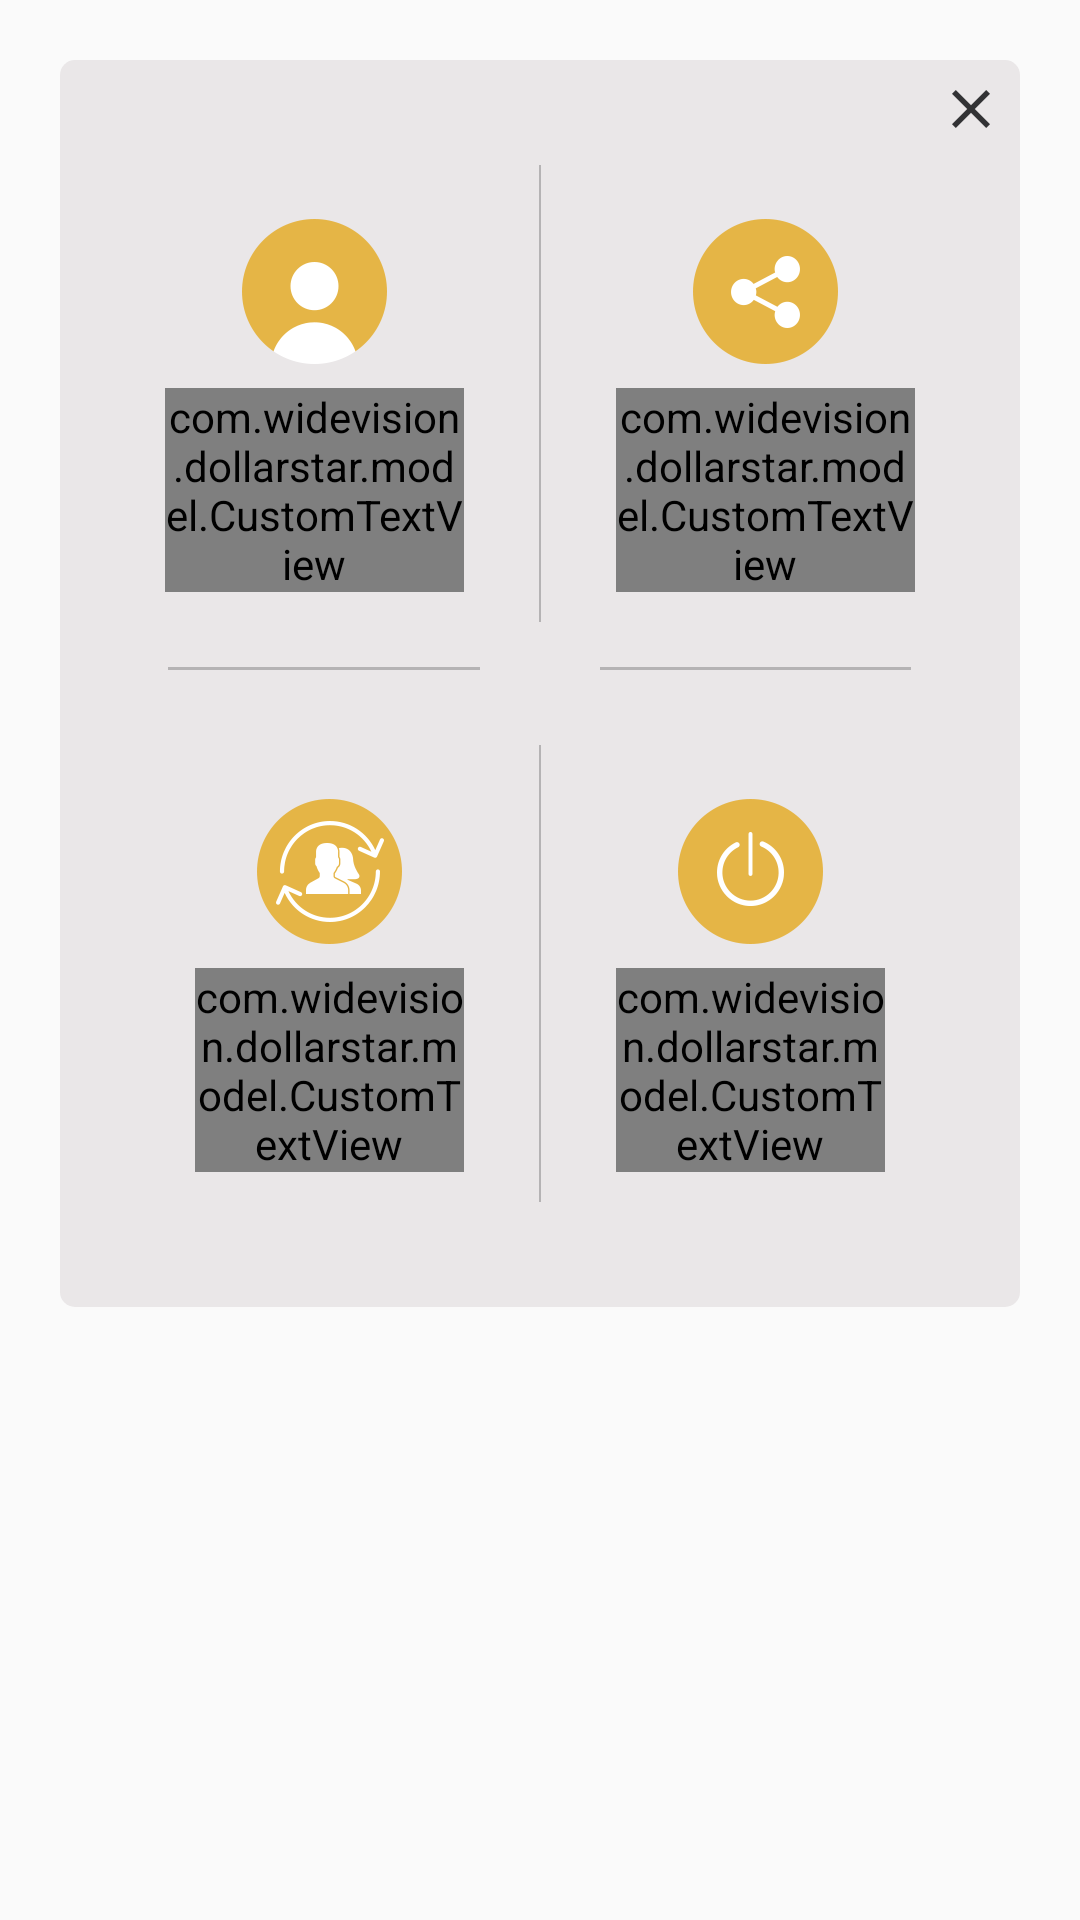

Screen size 1080 x 1920. Icon name, then its box in pixels as (x1=x1, y1=y1, x2=x2, y2=y2):
close: (x1=952, y1=90, x2=990, y2=128)
profile: (x1=242, y1=219, x2=387, y2=351)
refreshfriends: (x1=257, y1=799, x2=402, y2=944)
sharepf: (x1=693, y1=219, x2=838, y2=364)
